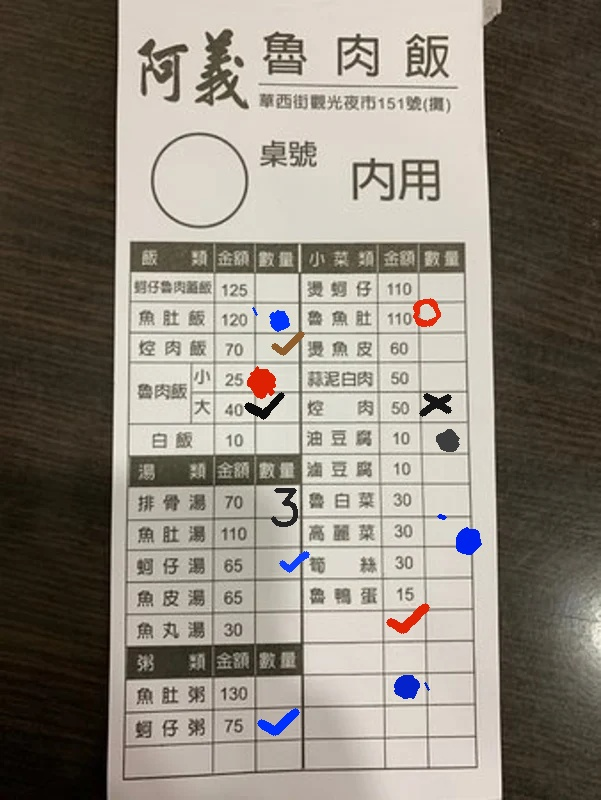marked_circle: (426, 517, 469, 545), (422, 422, 465, 450), (257, 363, 300, 391), (382, 674, 425, 702), (256, 303, 299, 331)
marked_hollow: (421, 301, 464, 329)
marked_number_3: (257, 487, 300, 515)
marked_tick: (256, 709, 299, 737), (256, 332, 299, 360), (258, 550, 301, 578), (256, 393, 299, 421), (382, 609, 425, 637)
marked_x: (421, 391, 464, 419)
